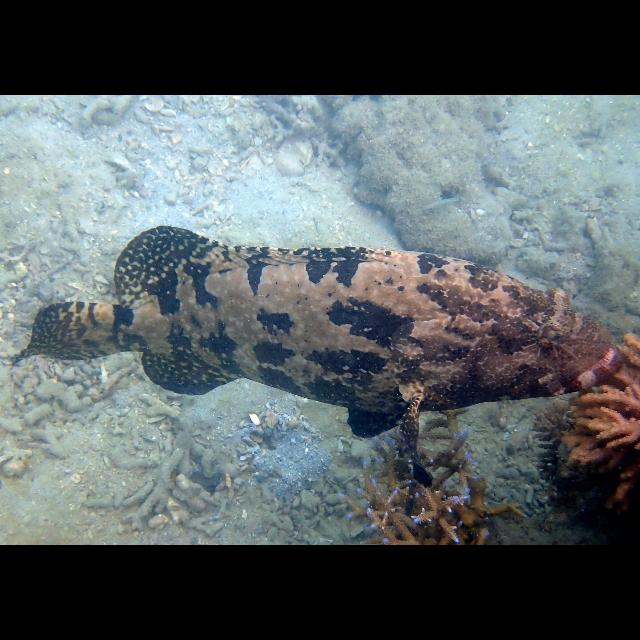Groupers: (34, 223, 626, 439)
